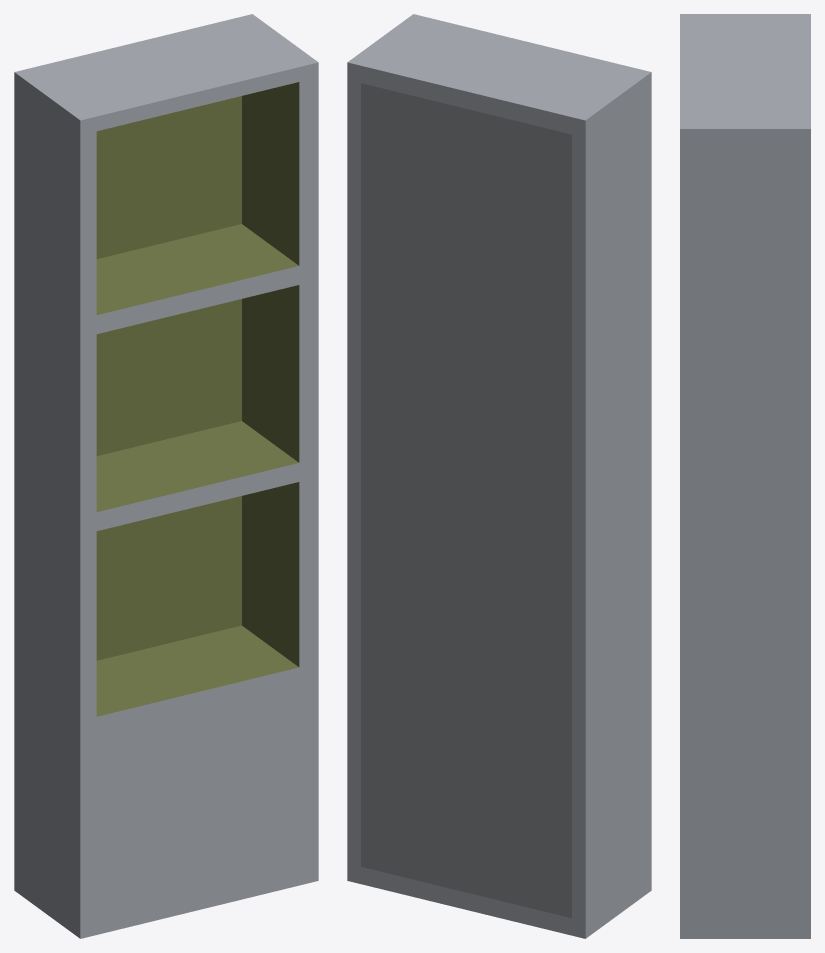
The model's file is SM_Prop_Clothes_Display_Shelf_Green_01.obj.
3 views of the same model, side by side, from view 1: azimuth 30°, elevation 25°; view 2: azimuth 150°, elevation 25°; view 3: azimuth 270°, elevation 25° (orthographic).
Visible parts, largest first — view 1: SM_Prop_Clothes_Display_Shelf_Green_01_0; view 2: SM_Prop_Clothes_Display_Shelf_Green_01_0; view 3: SM_Prop_Clothes_Display_Shelf_Green_01_0.
Part boxes in pixels (box(x1,y1,x2,y2)): SM_Prop_Clothes_Display_Shelf_Green_01_0: box(14, 14, 318, 938); SM_Prop_Clothes_Display_Shelf_Green_01_0: box(347, 14, 651, 938); SM_Prop_Clothes_Display_Shelf_Green_01_0: box(680, 14, 810, 938).
Size of the model in its own units: 0.6246 by 2.05 by 0.3004.
1 material, 1 textured.
